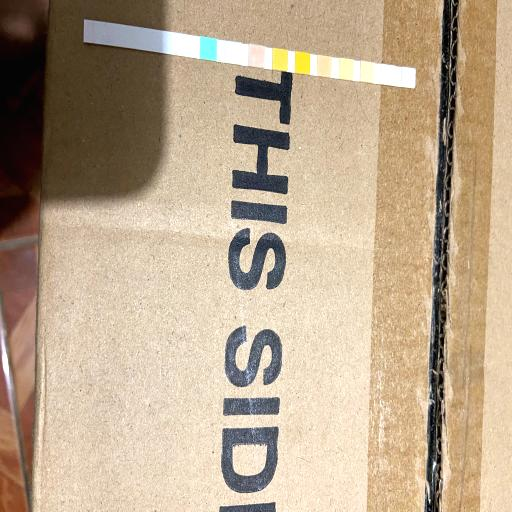Bilirubin: (225, 42, 241, 62)
Blood: (296, 54, 310, 72)
Glucose: (200, 38, 216, 58)
Ketone: (250, 46, 264, 66)
Leukocytes: (402, 68, 414, 88)
Nitrite: (382, 64, 394, 84)
Protein: (339, 60, 353, 79)
SpGravity: (272, 50, 288, 70)
Urobilinogen: (360, 63, 374, 81)
pH: (318, 56, 332, 76)
strip: (83, 19, 416, 89)
